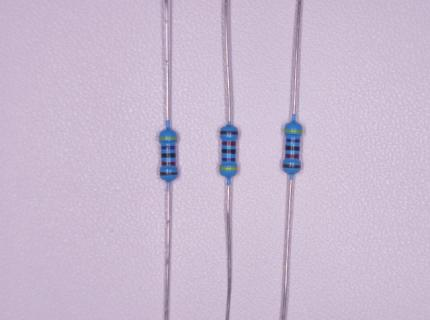Black band: (285, 145, 300, 150), (221, 149, 236, 154), (161, 153, 176, 158)
Brown band: (283, 164, 301, 168), (220, 131, 238, 135), (160, 172, 178, 176)
Red band: (222, 141, 236, 146), (162, 162, 176, 166), (286, 154, 299, 158)
Violet band: (286, 139, 300, 143), (222, 158, 236, 162), (161, 146, 175, 149)
Yellow band: (285, 129, 302, 133), (159, 137, 177, 140), (220, 167, 237, 170)
